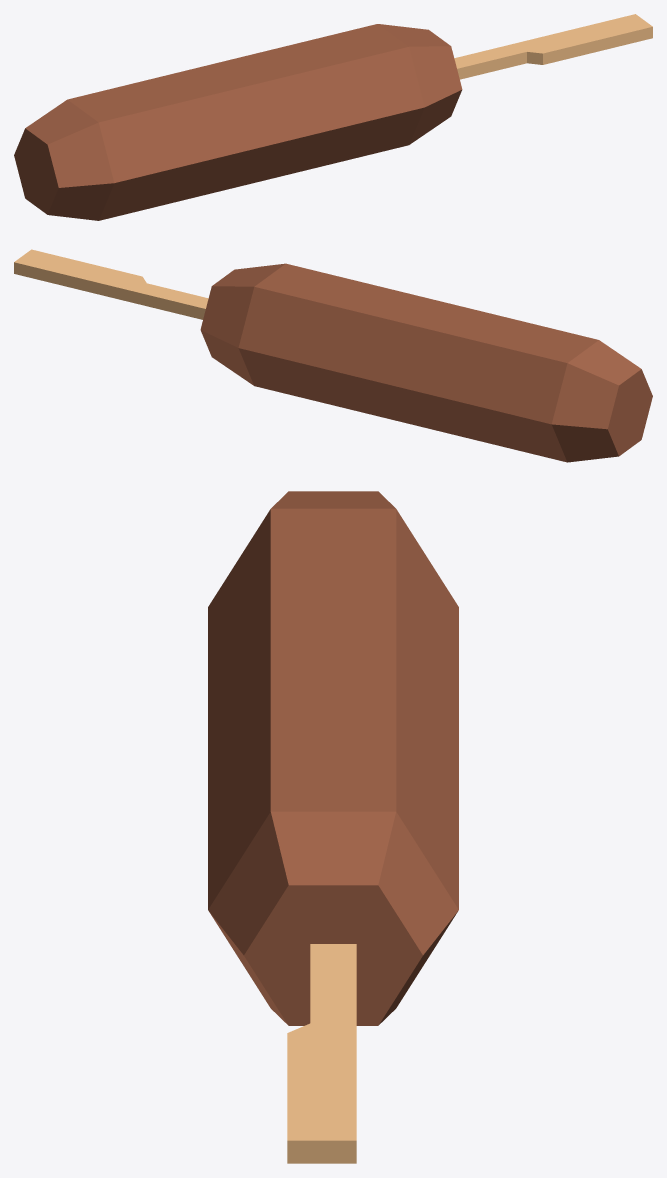
Rendered from cornDog.fbx.
3 views of the same model, one above another, from view 1: azimuth 30°, elevation 25°; view 2: azimuth 150°, elevation 25°; view 3: azimuth 270°, elevation 25° (orthographic). The views are drawn at different scales.
Parts seen in each view (by area): view 1: dog, cornDog; view 2: dog, cornDog; view 3: dog, cornDog.
Boxes of the visible parts, left/top/right/bottom form: dog: left=14, top=24, right=462, bottom=220; cornDog: left=454, top=14, right=652, bottom=79; dog: left=200, top=263, right=652, bottom=462; cornDog: left=14, top=249, right=208, bottom=319; dog: left=208, top=491, right=458, bottom=1025; cornDog: left=287, top=944, right=356, bottom=1163.
Size of the model in its own units: 6.04 by 0.94 by 1.09.
